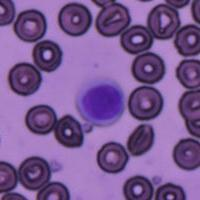L: (76, 76, 127, 126)
